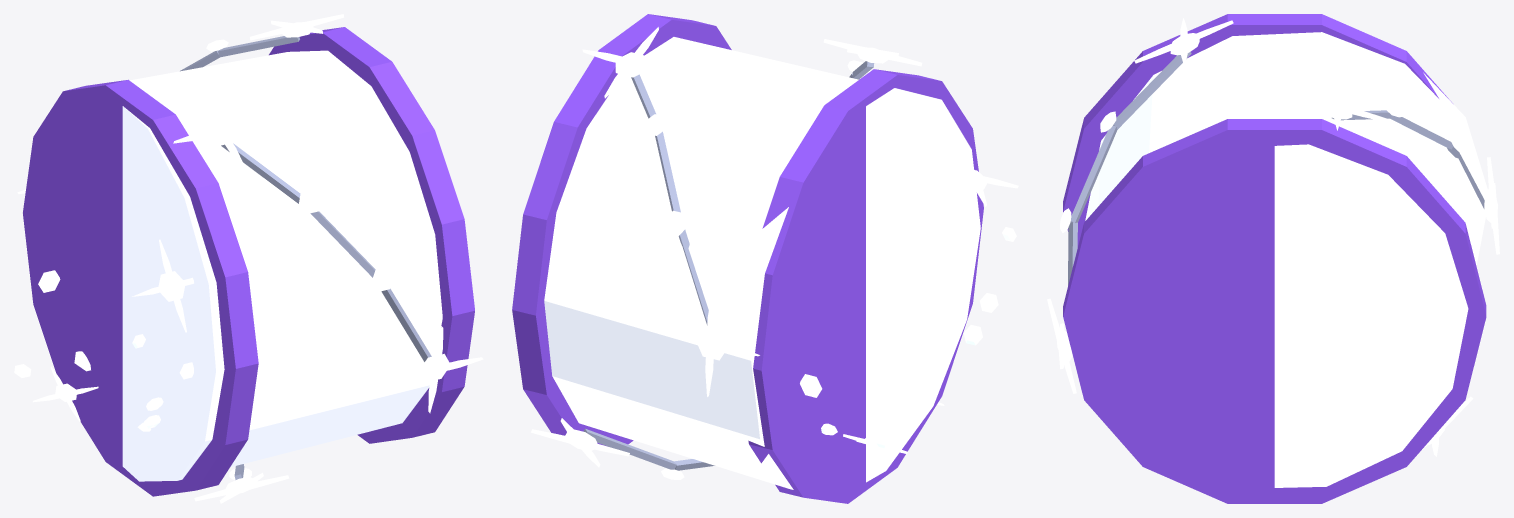
File: astrael_bracer_l.glb
The picture shows the model from 3 angles, left to right: view 1: azimuth 30°, elevation 25°; view 2: azimuth 150°, elevation 25°; view 3: azimuth 270°, elevation 25°; orthographic projection. The views are drawn at different scales.
Visible parts, largest first — view 1: astrael_bracer_l; view 2: astrael_bracer_l; view 3: astrael_bracer_l.
Part boxes in pixels (x1,y1,x2,y2): astrael_bracer_l: [14, 14, 483, 503]; astrael_bracer_l: [512, 14, 1018, 503]; astrael_bracer_l: [1047, 14, 1499, 503].
Bounding box in the file's own units: 0.2771 × 0.3426 × 0.3467.
